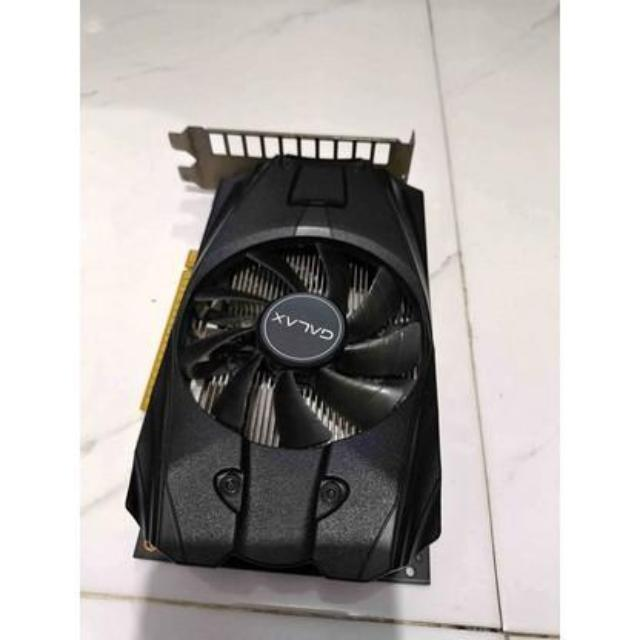GPU: (110, 110, 444, 587)
